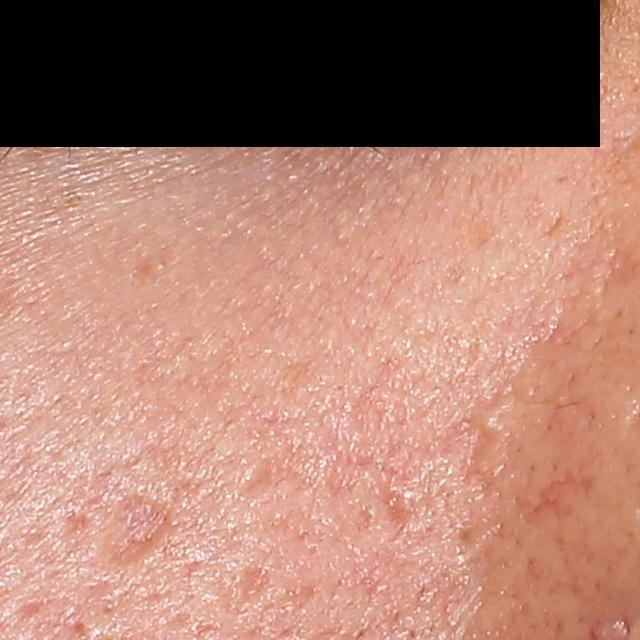atrophic_scar: (103, 498, 178, 567), (239, 456, 308, 501), (532, 468, 600, 511), (241, 566, 275, 604)
comedo: (476, 407, 503, 438)
